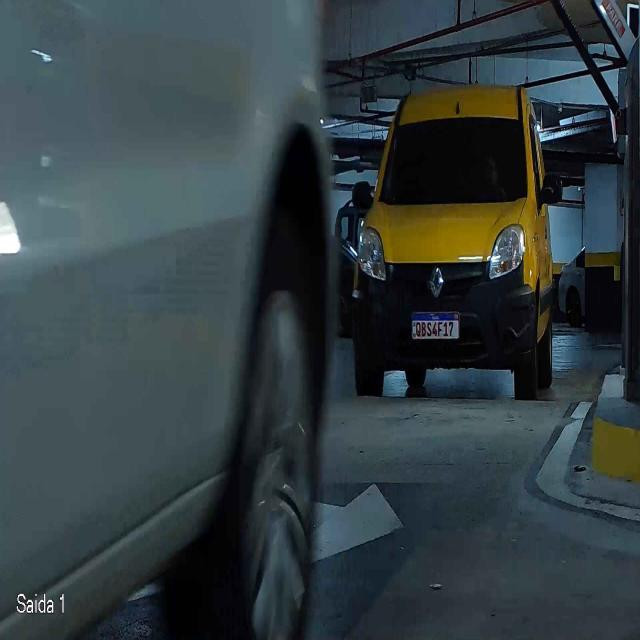mercosul_plate: (409, 311, 462, 340)
